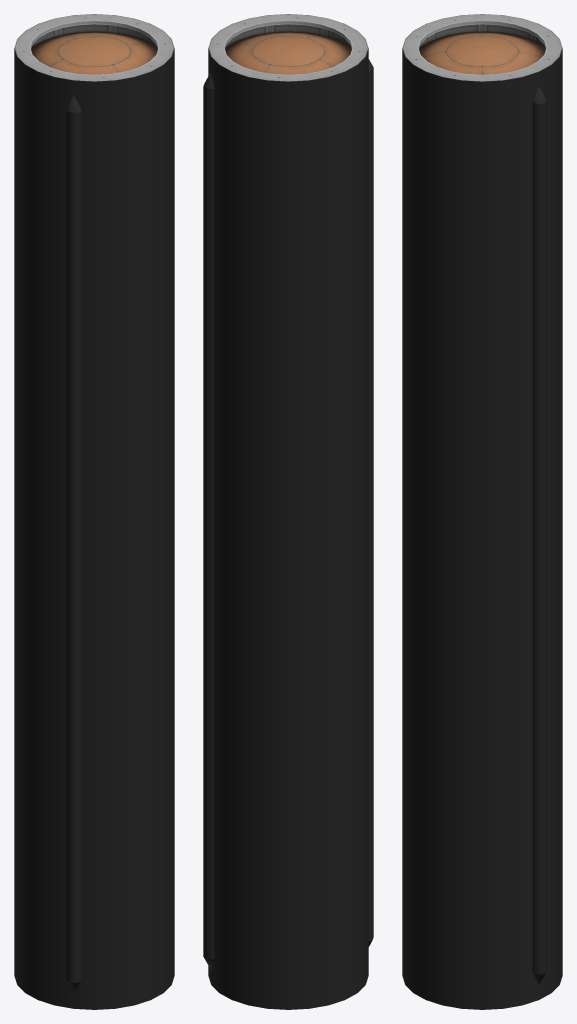
The model's file is TLV_1_LFO_1.obj.
The picture shows the model from 3 angles, left to right: view 1: azimuth 30°, elevation 25°; view 2: azimuth 150°, elevation 25°; view 3: azimuth 270°, elevation 25°; orthographic projection.
Parts seen in each view (by area): view 1: TLV_2_LFO_1; view 2: TLV_2_LFO_1; view 3: TLV_2_LFO_1.
Part boxes in pixels (left/top/right/bottom): TLV_2_LFO_1: left=14, top=14, right=174, bottom=1009; TLV_2_LFO_1: left=203, top=14, right=373, bottom=1009; TLV_2_LFO_1: left=402, top=14, right=562, bottom=1009.
Size of the model in its own units: 1.25 by 8 by 1.25.
